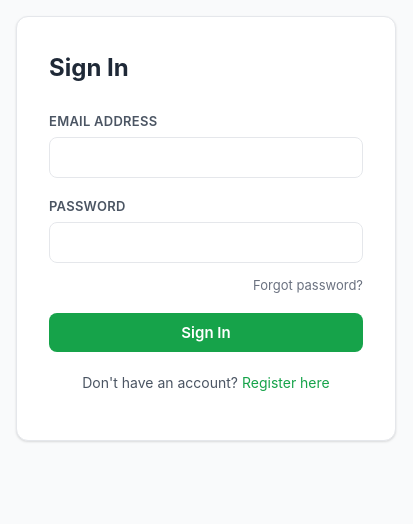
LoginPage › shows error on empty submission
Click the button "Sign In": (206, 332) [49, 313, 363, 352]
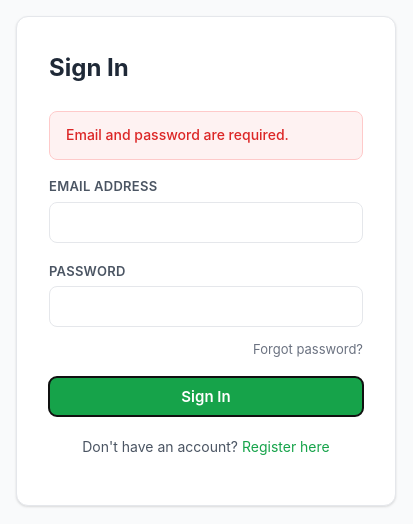
Result: the text "Email and password are required." is shown at [49, 111, 363, 160]
